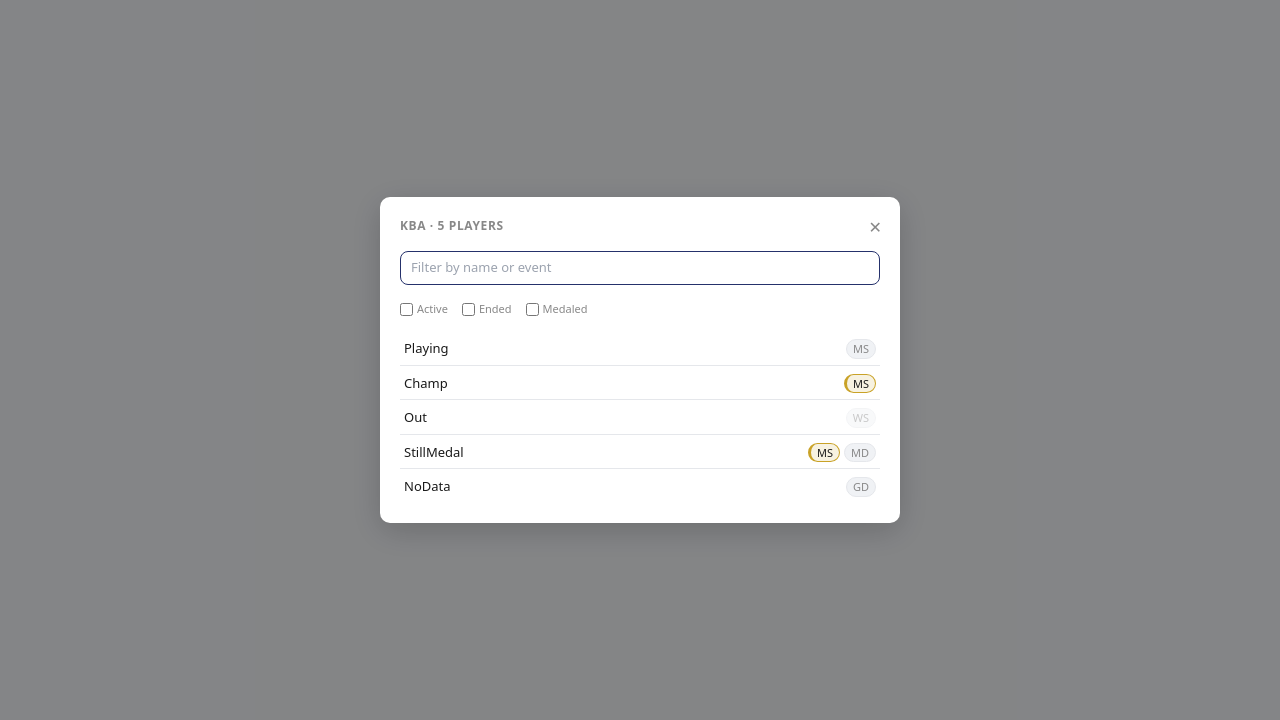
Test case: RosterModal status filters › Ended shows players whose events are all concluded (eliminated and finished medalists)
Click the checkbox labelled "Ended" at (468, 309), box 462,302 -> 475,316
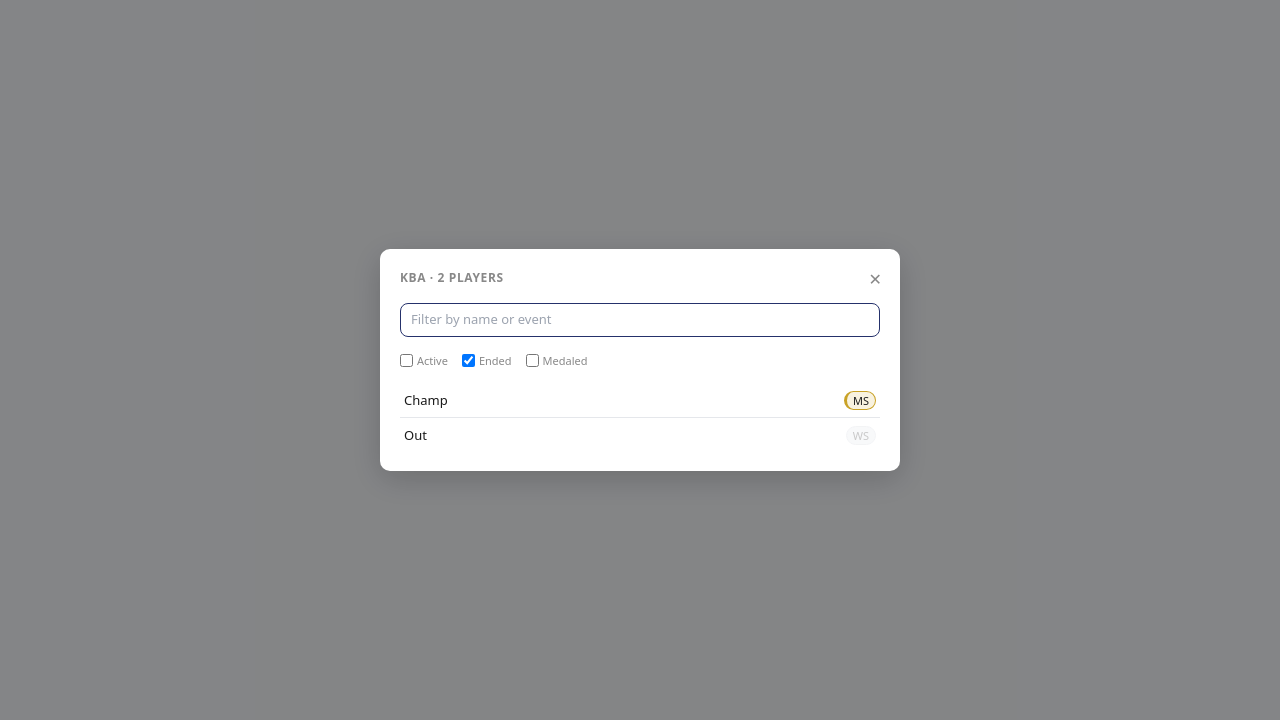
Expected: the text "KBA · 2 Players" is shown, 400,269 -> 504,286
